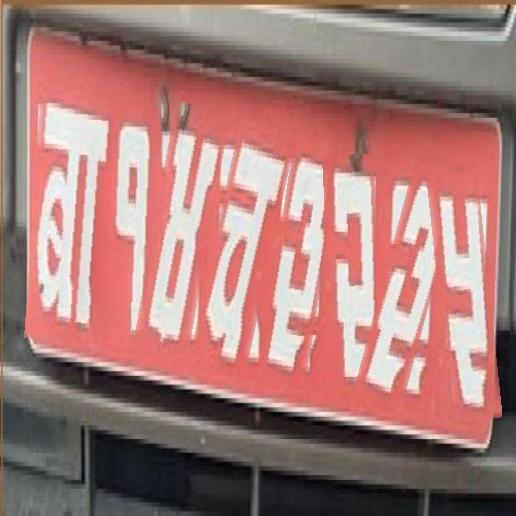1: (110, 104, 160, 357)
2: (325, 153, 383, 390)
3: (367, 153, 450, 413), (266, 136, 333, 386)
4: (143, 103, 220, 358)
5: (433, 172, 496, 421)
ba: (28, 94, 111, 341)
cha: (202, 120, 285, 377)
